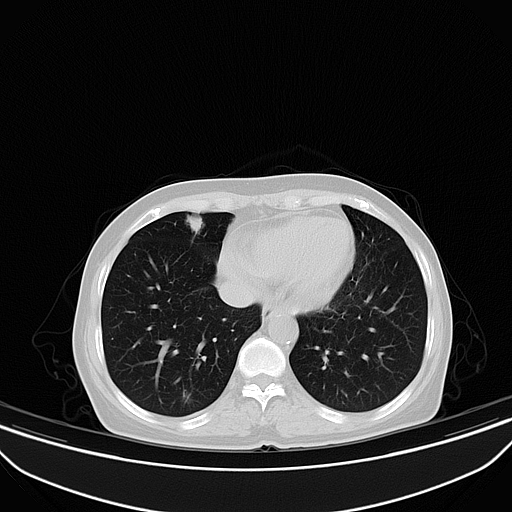nodule: (184, 213, 203, 234)
